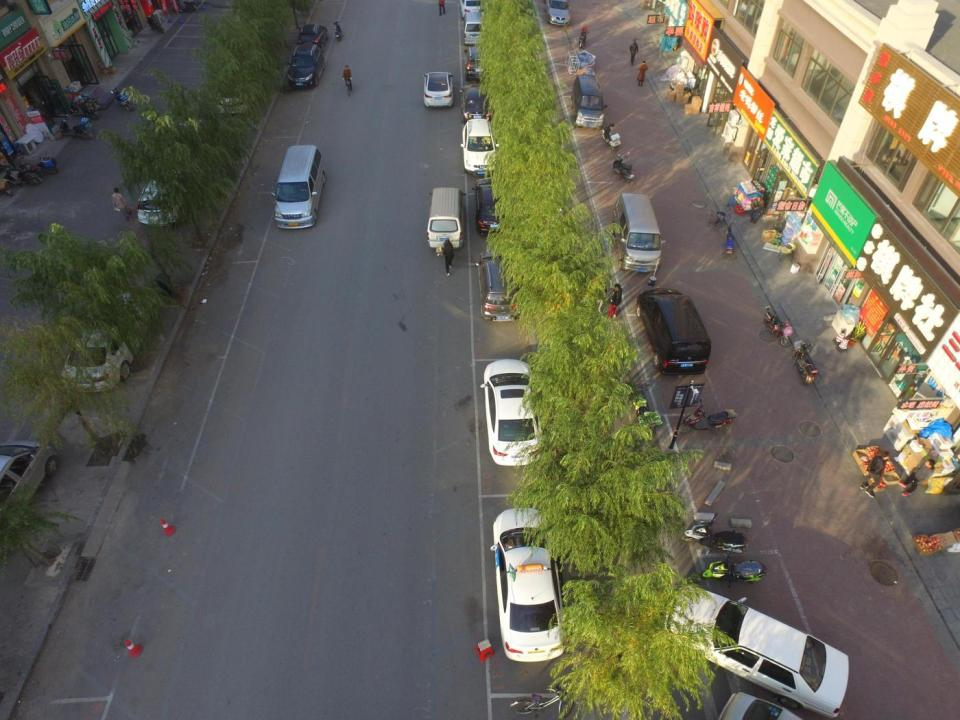car: (663, 584, 850, 720), (491, 508, 566, 662), (60, 291, 158, 393), (480, 357, 544, 466), (1, 440, 58, 562), (635, 286, 712, 376), (136, 166, 192, 227), (474, 251, 520, 322), (460, 117, 500, 177), (472, 176, 509, 236), (286, 42, 326, 89), (215, 65, 250, 115), (458, 81, 494, 124), (421, 71, 455, 108), (296, 23, 329, 56), (463, 46, 491, 83), (544, 0, 573, 27)
van: (270, 144, 327, 230), (612, 192, 666, 274), (426, 186, 467, 251), (569, 74, 608, 130), (461, 10, 487, 47)
